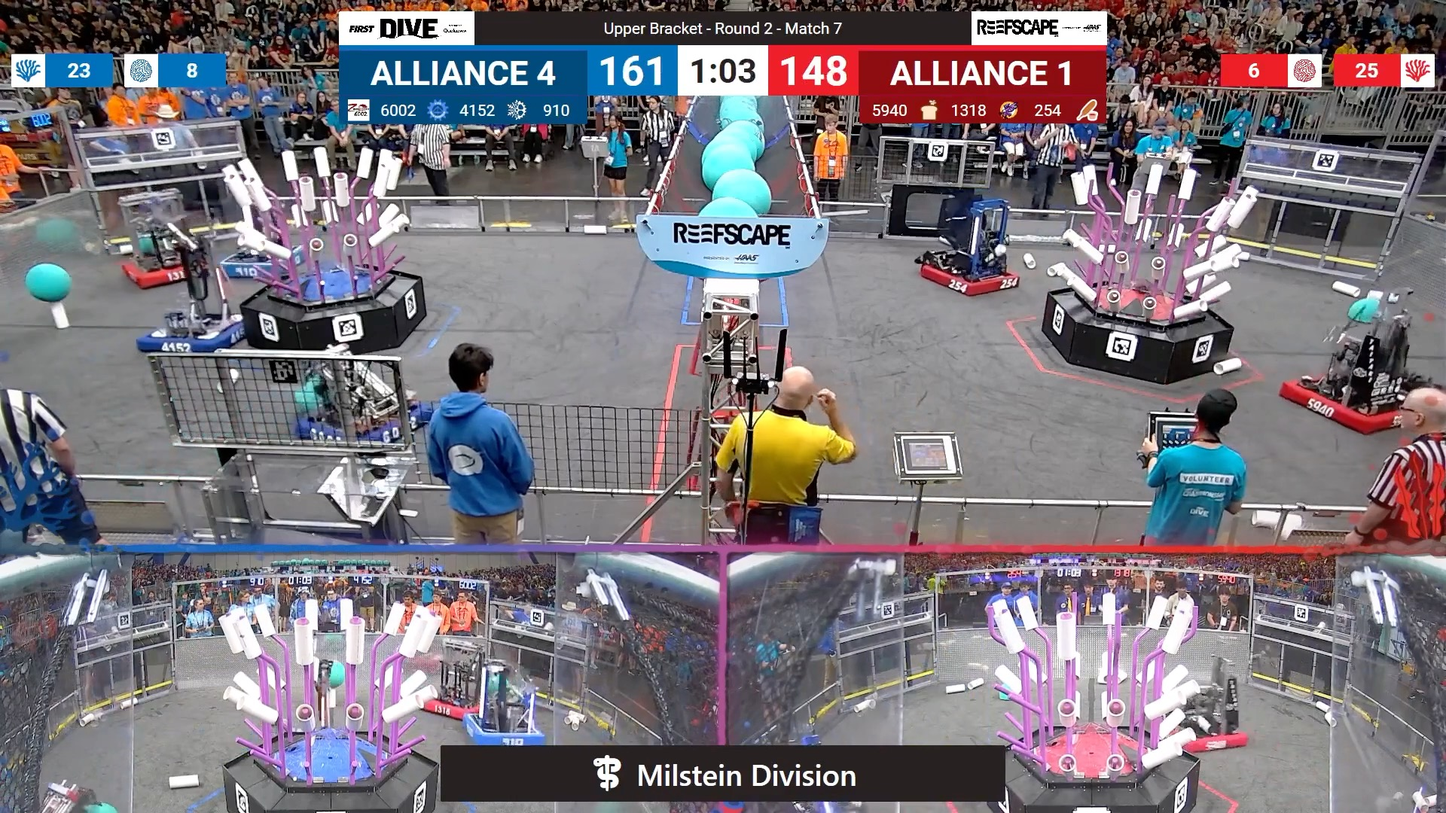bumpers: (1274, 363, 1437, 437), (290, 400, 415, 452), (134, 308, 246, 361), (910, 254, 1027, 301), (115, 252, 207, 293), (1169, 716, 1254, 758), (462, 711, 550, 749), (216, 251, 308, 285), (418, 694, 488, 723)
